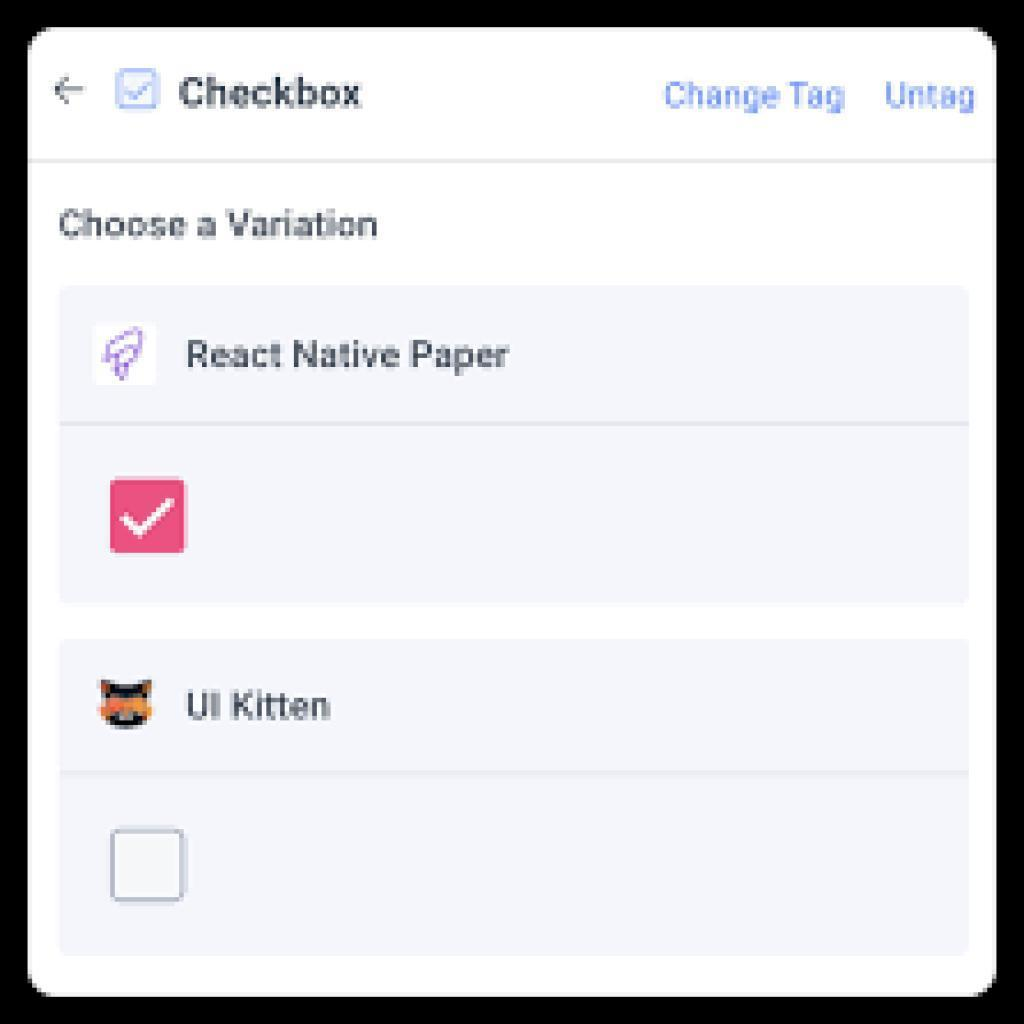checkbox: (112, 826, 188, 903), (109, 480, 185, 551), (116, 69, 161, 112)
icon: (51, 71, 93, 111)
label: (660, 71, 850, 122), (882, 73, 980, 121)
